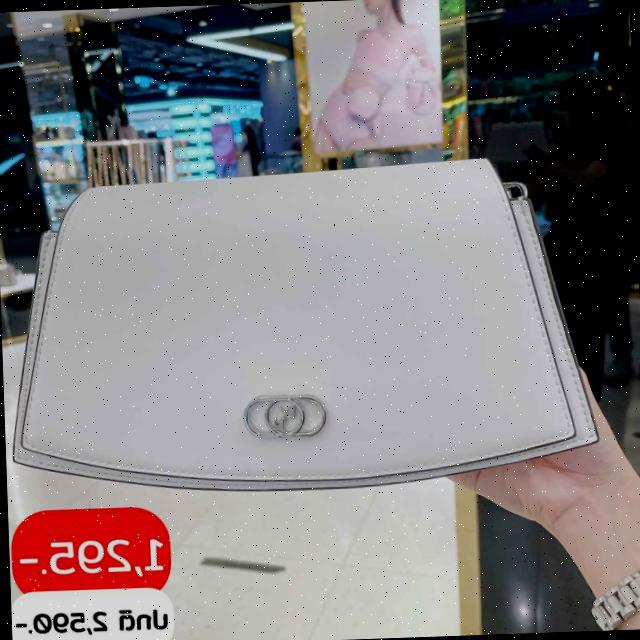Handbag: (0, 125, 605, 506)
